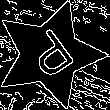P_SE: (18, 23, 81, 86)
